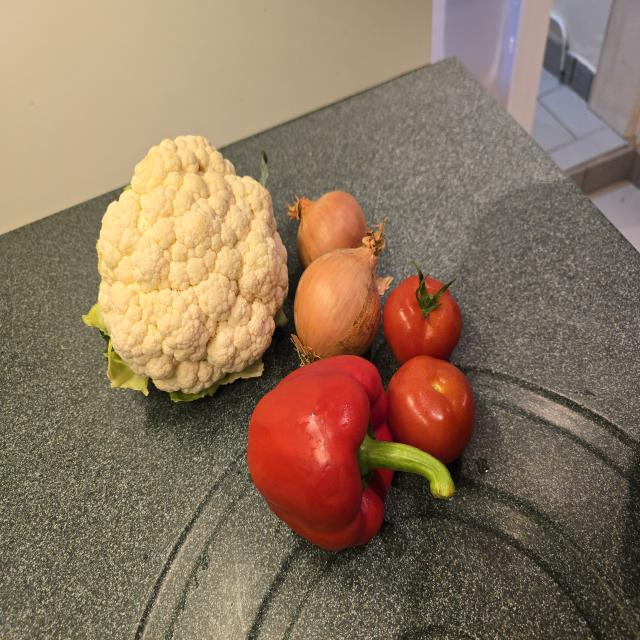Bell Pepper: (247, 356, 454, 550)
Cauliflower: (96, 140, 287, 392)
Onion: (294, 247, 379, 358), (288, 191, 368, 268)
Tomato: (387, 355, 475, 464), (383, 275, 462, 364)
